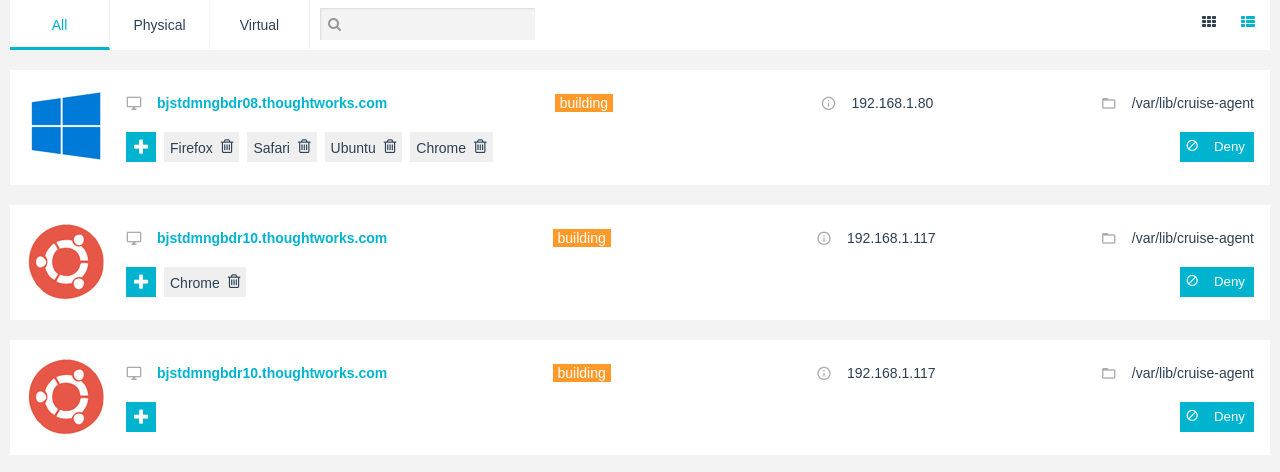
Test: AgentList › should render physical agent when click physical button
The image size is (1280, 472).
Click the element with test id "Physical": x=160, y=25 [110,0,210,50]
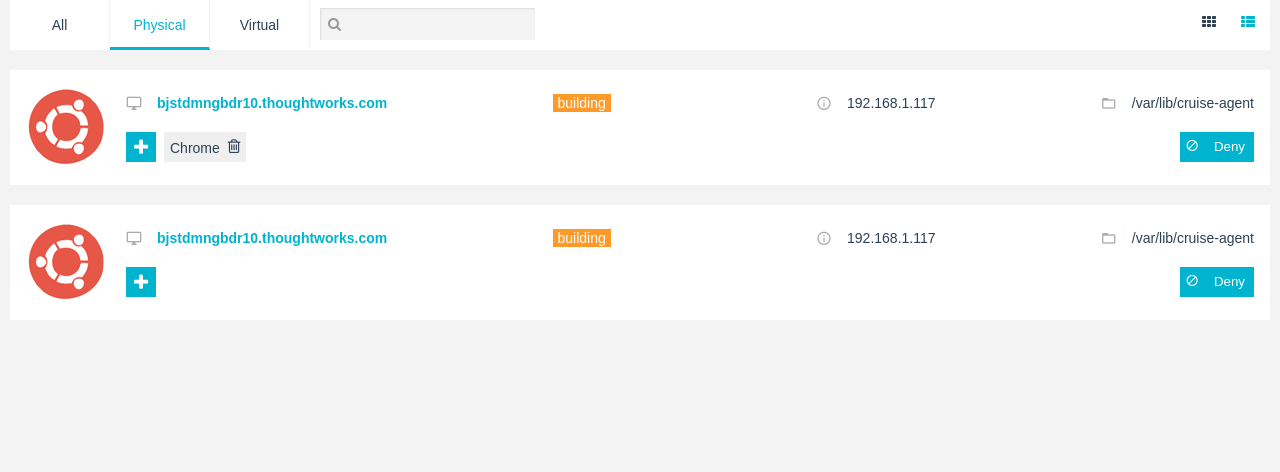
Result: the number of list items is 2 at [10,70,1270,185]; [10,205,1270,320]
